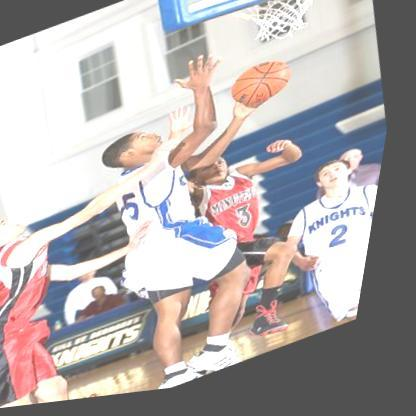basketball: (228, 58, 302, 120)
